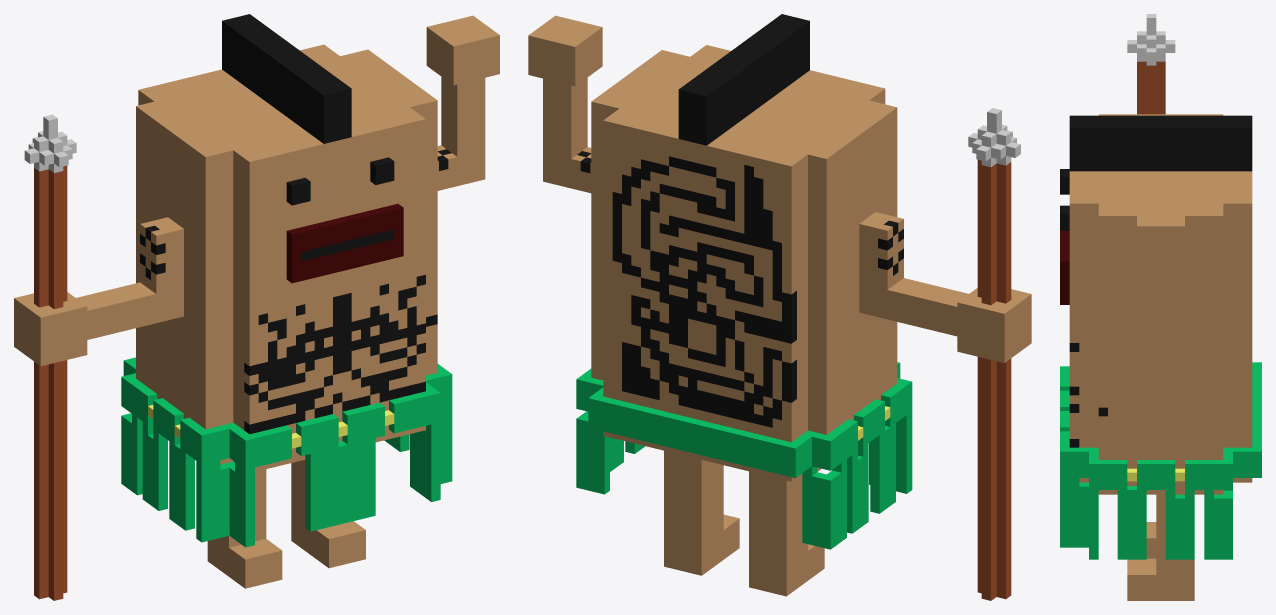
File: native_03.obj
3 renders of one model, left to right at view 1: azimuth 30°, elevation 25°; view 2: azimuth 150°, elevation 25°; view 3: azimuth 270°, elevation 25°, orthographic. The views are drawn at different scales.
Size of the model in its own units: 50 by 52 by 21.
1 material, 1 textured.
